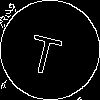T: (25, 25, 66, 77)
